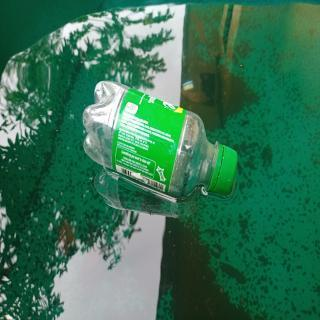bottle: (80, 76, 240, 202)
